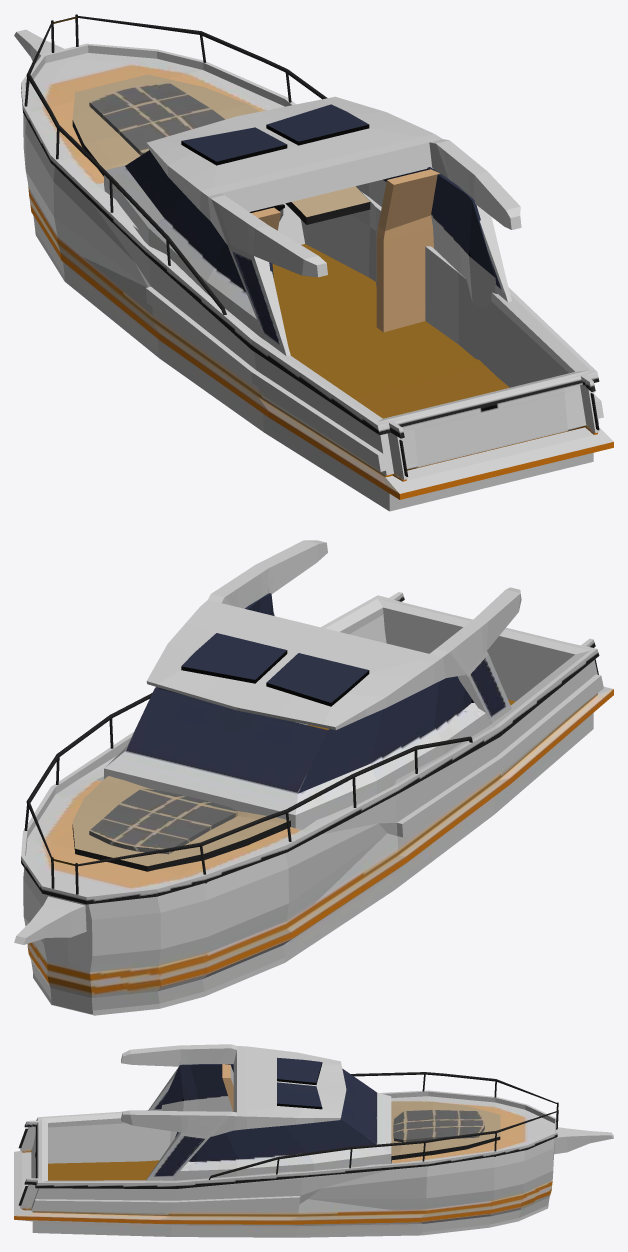
The model's file is fishing-boat.glb.
The picture shows the model from 3 angles, top to bottom: view 1: azimuth 30°, elevation 25°; view 2: azimuth 150°, elevation 25°; view 3: azimuth 270°, elevation 25°; orthographic projection. The views are drawn at different scales.
Visible parts, largest first — view 1: Boat_0; view 2: Boat_0; view 3: Boat_0.
Boxes of the visible parts, box(x1,y1,x2,y2) form: Boat_0: box(14, 14, 613, 511); Boat_0: box(14, 540, 613, 1015); Boat_0: box(14, 1044, 613, 1237).
Bounding box in the file's own units: 2.94 × 2.18 × 9.7.
Materials: 1 (1 with a texture image).
